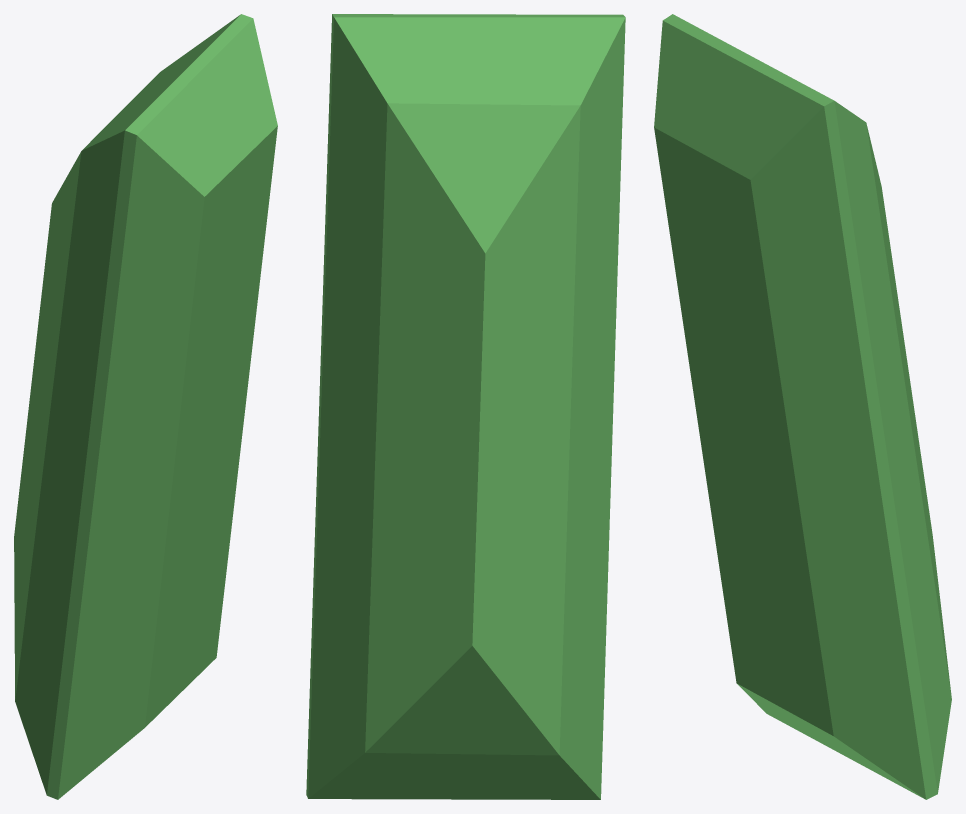
File: BR3_Spacers_BaguetteStone.001 2.glb
3 renders of one model, left to right at view 1: azimuth 30°, elevation 25°; view 2: azimuth 150°, elevation 25°; view 3: azimuth 270°, elevation 25°, orthographic. The views are drawn at different scales.
Visible parts, largest first — view 1: BR3_Spacers_BaguetteStone.001; view 2: BR3_Spacers_BaguetteStone.001; view 3: BR3_Spacers_BaguetteStone.001.
Boxes of the visible parts, <box> form: BR3_Spacers_BaguetteStone.001: <box>14,14,277,799</box>; BR3_Spacers_BaguetteStone.001: <box>306,14,625,799</box>; BR3_Spacers_BaguetteStone.001: <box>654,14,951,799</box>.
Bounding box in the file's own units: 0.2188 × 0.6434 × 0.2411.
